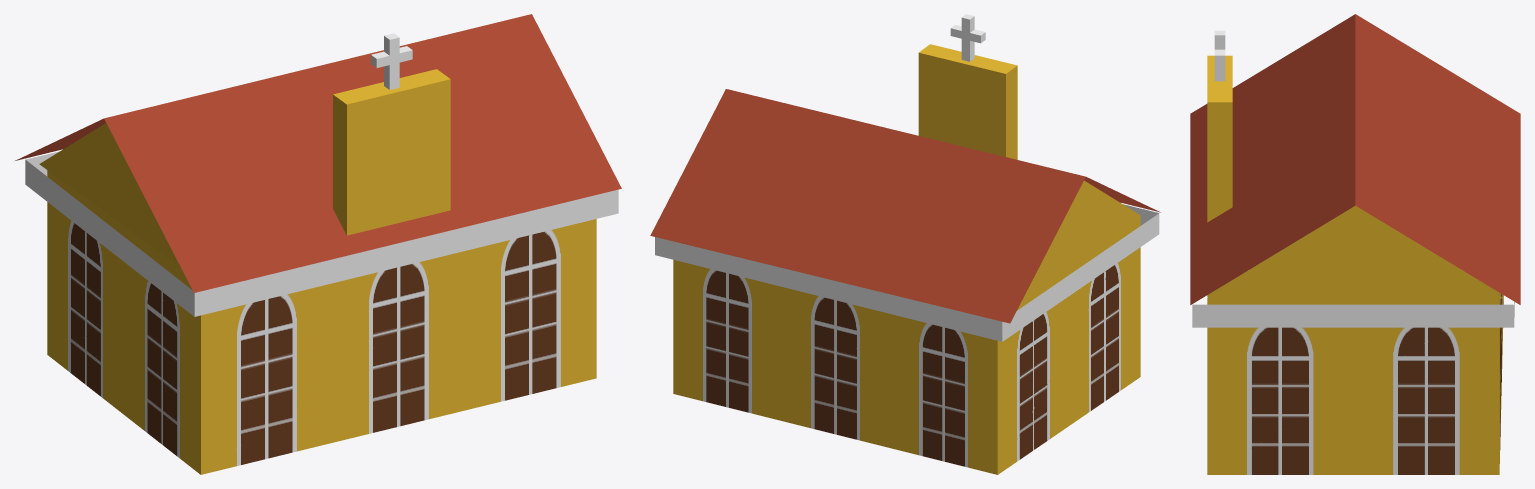
The model's file is altovista.glb.
The picture shows the model from 3 angles, left to right: view 1: azimuth 30°, elevation 25°; view 2: azimuth 150°, elevation 25°; view 3: azimuth 270°, elevation 25°; orthographic projection. The views are drawn at different scales.
Visible parts, largest first — view 1: altovista_lod0; view 2: altovista_lod0; view 3: altovista_lod0.
Part boxes in pixels (x1,y1,x2,y2): altovista_lod0: (15,14,621,474); altovista_lod0: (650,14,1160,474); altovista_lod0: (1190,14,1520,474).
Size of what is drawn, in the model's own units: 10.7 by 9.2 by 7.8.
Materials: 4 (1 with a texture image).
